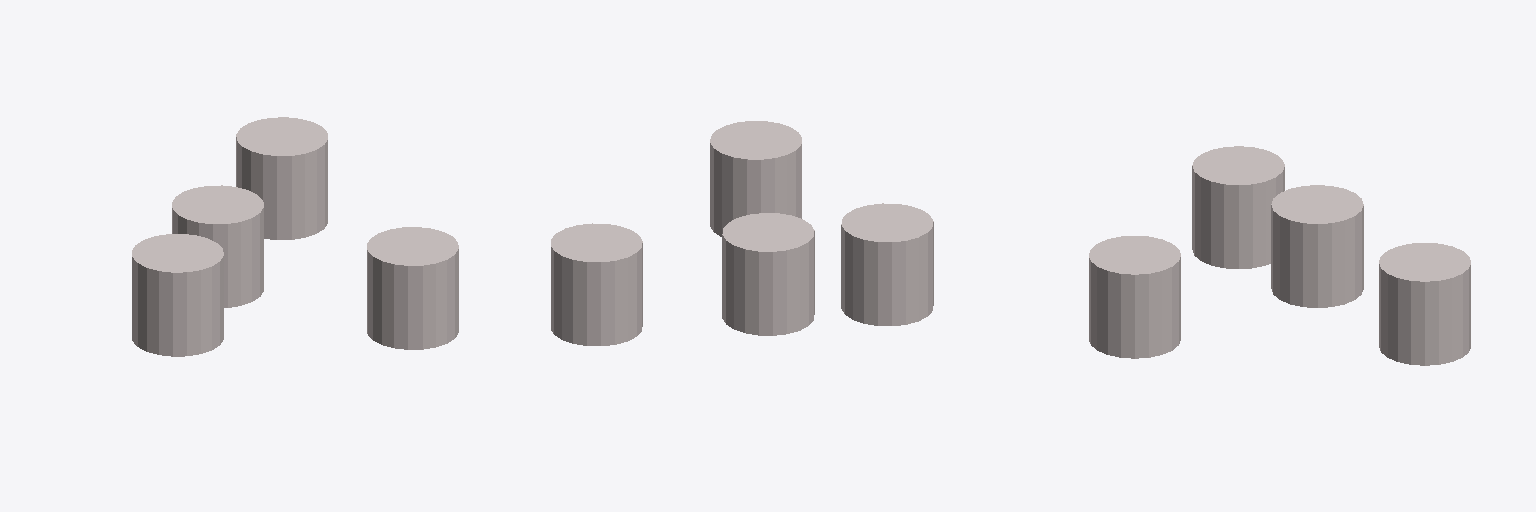
The picture shows the model from 3 angles: view 1: azimuth 30°, elevation 25°; view 2: azimuth 150°, elevation 25°; view 3: azimuth 270°, elevation 25°; orthographic projection.
Visible parts, largest first — view 1: cylinders1:pCylinder3, cylinders1:pCylinder4, cylinders1:pCylinder2, cylinders1:pCylinder1; view 2: cylinders1:pCylinder1, cylinders1:pCylinder4, cylinders1:pCylinder2, cylinders1:pCylinder3; view 3: cylinders1:pCylinder1, cylinders1:pCylinder2, cylinders1:pCylinder3, cylinders1:pCylinder4.
Boxes of the visible parts, <box> form: cylinders1:pCylinder3: <box>367,227,458,349</box>; cylinders1:pCylinder4: <box>132,234,223,356</box>; cylinders1:pCylinder2: <box>236,117,327,239</box>; cylinders1:pCylinder1: <box>172,185,263,307</box>; cylinders1:pCylinder1: <box>722,213,814,335</box>; cylinders1:pCylinder4: <box>841,203,933,325</box>; cylinders1:pCylinder2: <box>551,223,642,345</box>; cylinders1:pCylinder3: <box>710,121,801,236</box>; cylinders1:pCylinder1: <box>1271,185,1363,307</box>; cylinders1:pCylinder2: <box>1379,243,1470,365</box>; cylinders1:pCylinder3: <box>1089,236,1180,358</box>; cylinders1:pCylinder4: <box>1192,146,1284,268</box>.
Size of the model in its own units: 789 by 228 by 941.
1 materials, 1 textured.